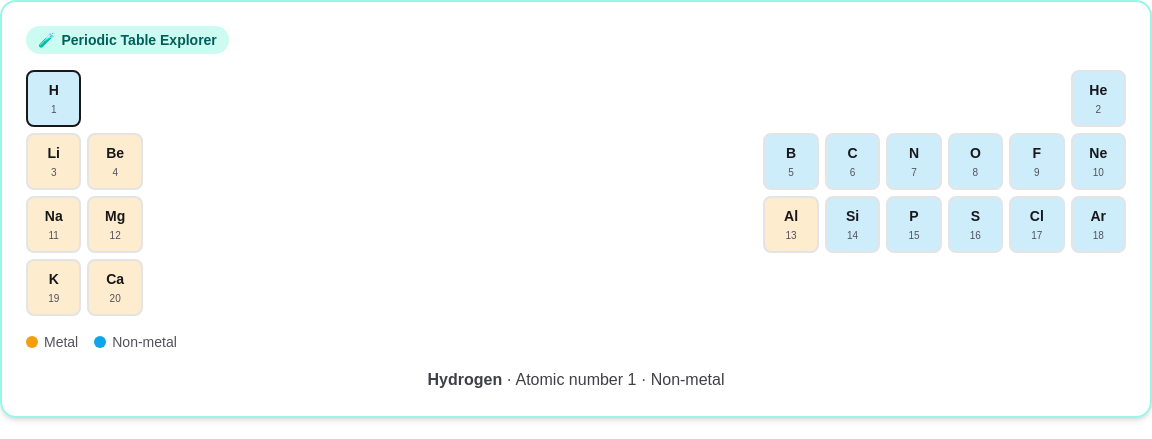
Test: PeriodicTableExplorer › clicking a non-metal tile updates the displayed info
Click the button "Cl 17": x=1037, y=224 [1009, 196, 1064, 253]
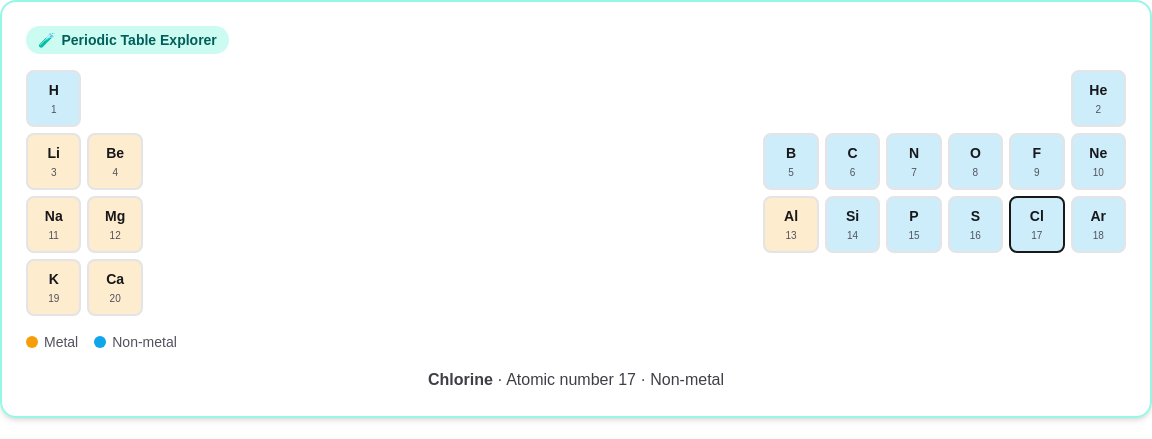
Expected: the text with test id "element-classification" reads "Non-metal", [650, 371, 724, 388]
Now the text with test id "element-name" reads "Chlorine", box [428, 371, 493, 388]
Now the text with test id "element-atomic-number" reads "17", box [618, 371, 636, 388]
